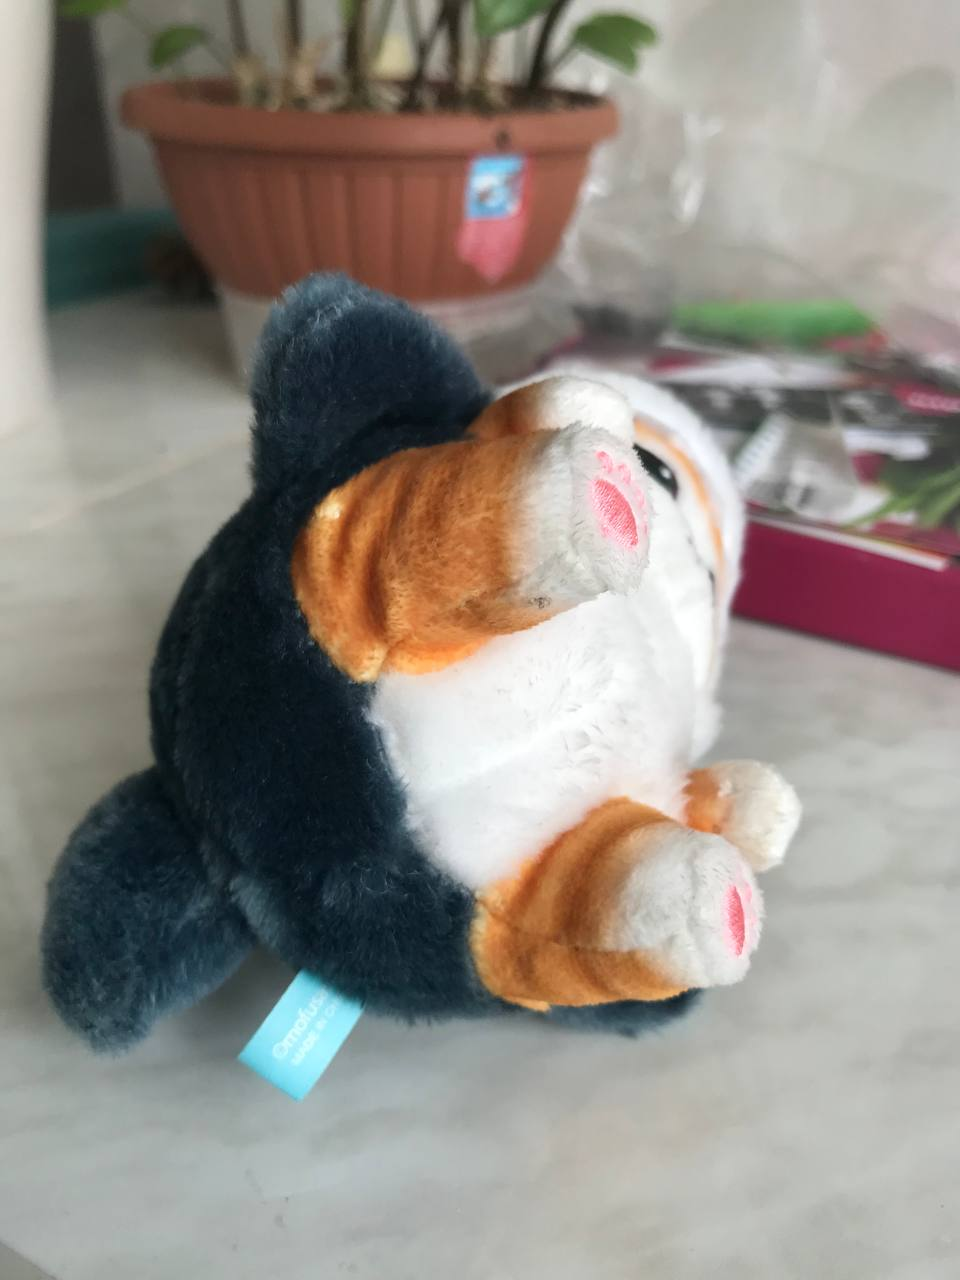cat_shark: (37, 267, 813, 1110)
